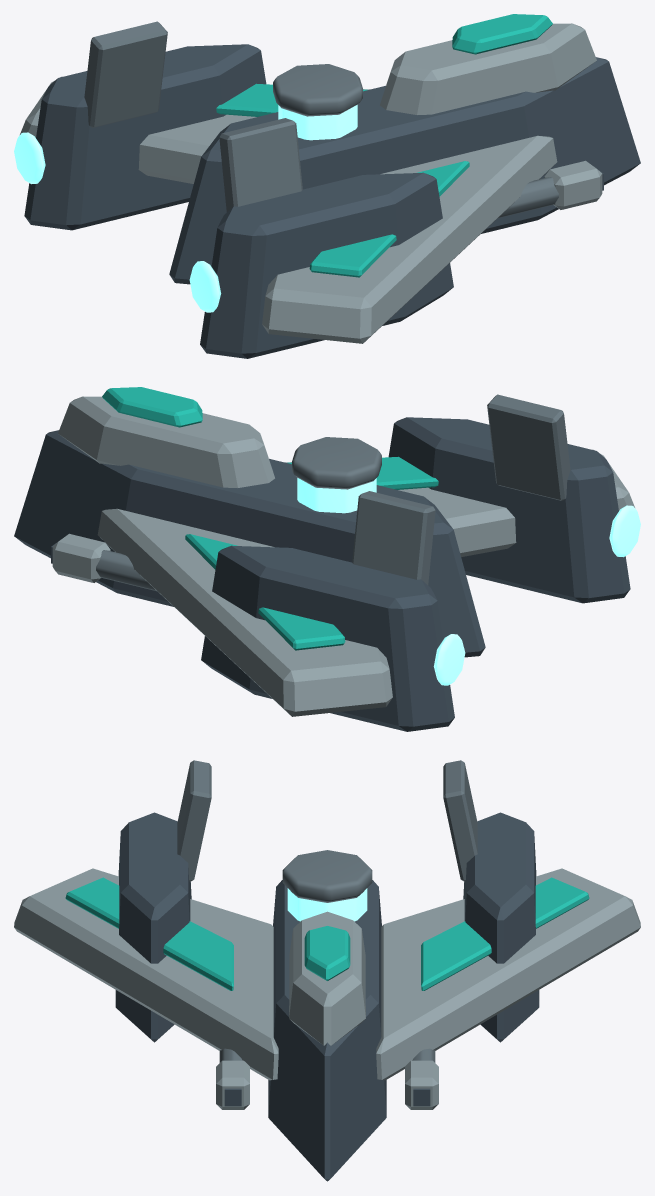
Rendered from SM_Veil.fbx.
The picture shows the model from 3 angles, top to bottom: view 1: azimuth 30°, elevation 25°; view 2: azimuth 150°, elevation 25°; view 3: azimuth 270°, elevation 25°; orthographic projection.
Parts seen in each view (by area): view 1: SM_Veil; view 2: SM_Veil; view 3: SM_Veil.
Boxes of the visible parts, box(x1,y1,x2,y2) form: SM_Veil: box(14, 14, 640, 358); SM_Veil: box(14, 387, 640, 731); SM_Veil: box(14, 760, 640, 1181).
Size of the model in its own units: 49.7 by 52 by 18.
